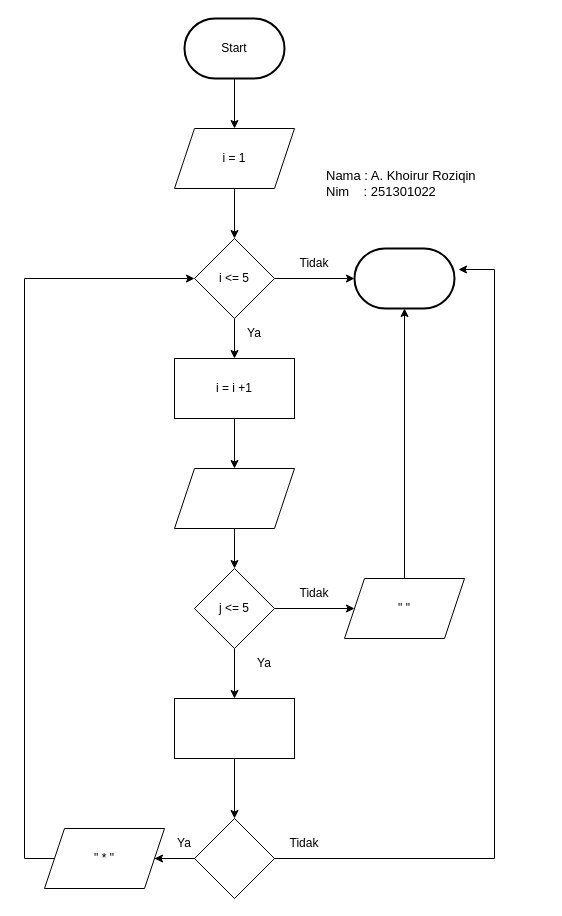
This 562x916 diagram has some shape labels left out. Here are the shapes that lost their labels. From the top down, the centre of each, then its label:
At (x=404, y=278): "Finish".
At (x=234, y=498): "j = 1".
At (x=234, y=728): "j = j +1".
At (x=234, y=858): "j <= i".
